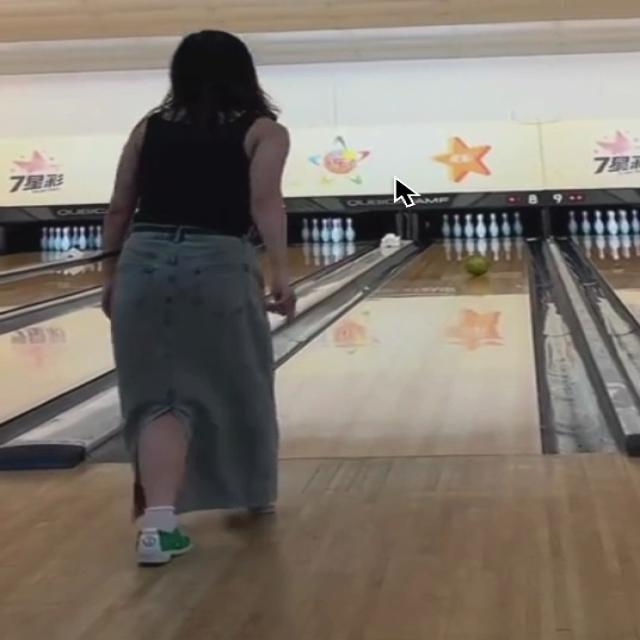alley: (277, 239, 540, 459)
balls: (467, 254, 490, 276)
bottle: (443, 211, 521, 238)
